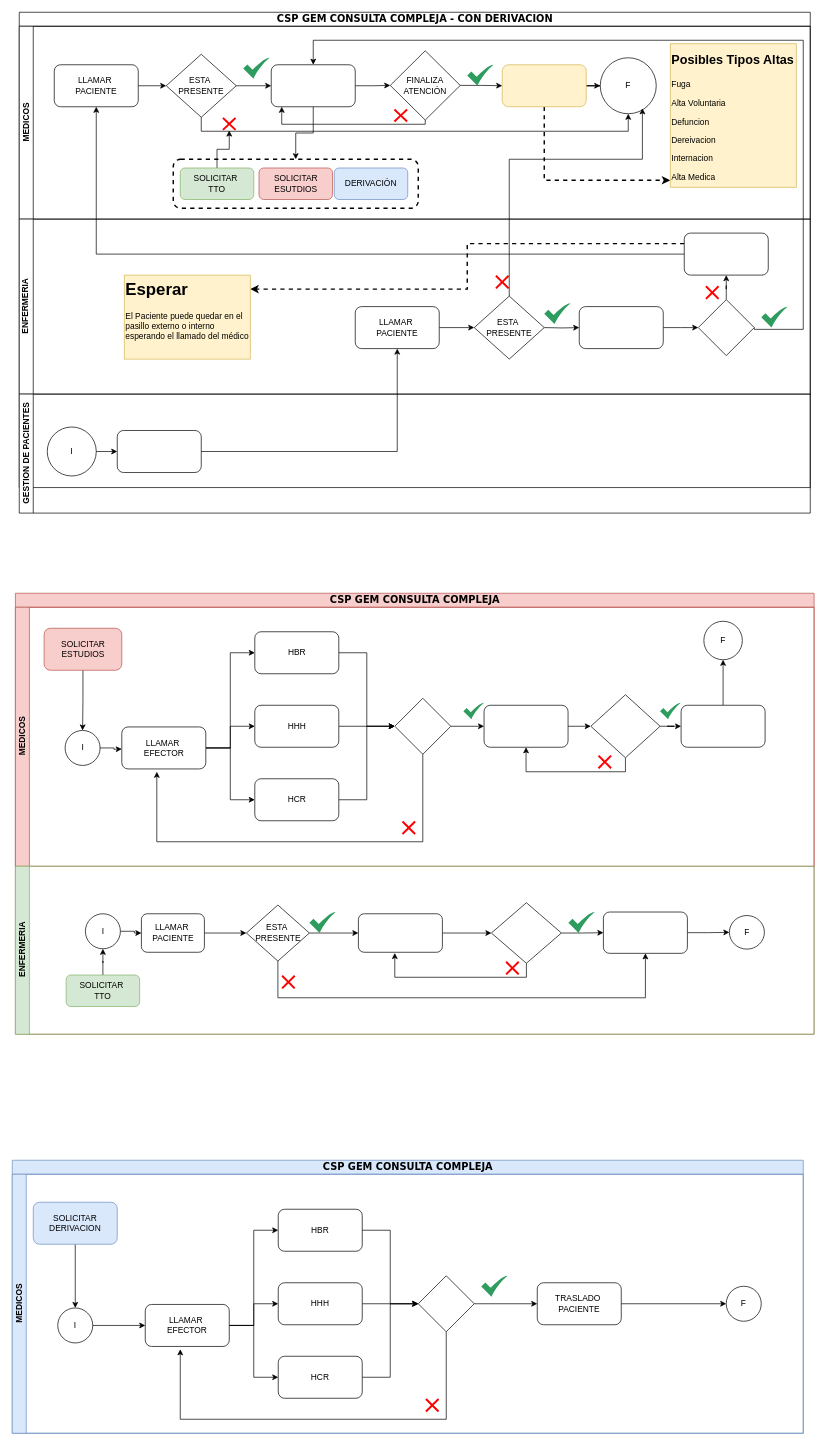
This 827x1446 diagram has some shape labels left out. Here are the shapes that lost their labels. From the top down, the centre of each, then its label:
point (313, 85): ATENDER PACIENTE
point (544, 85): FINALIZAR ATENCIÓN
point (726, 253): ESPERAR ATENCION MEDICA
point (621, 327): REALIZAR TRIAJE
point (726, 327): Shockroom/ Respiratorio
point (159, 451): RECEPCIONAR PACIENTES
point (422, 726): CONSIGO ESTUDIO
point (525, 726): REALIZO ESTUDIO
point (625, 726): ESTUDIO FINALIZADO
point (722, 726): AVISO MEDICO
point (400, 932): REALIZAR TTO
point (526, 932): TTO FINALIZADO
point (645, 932): AVISAR AL MEDICO
point (446, 1303): CONSIGO DERIVAR
